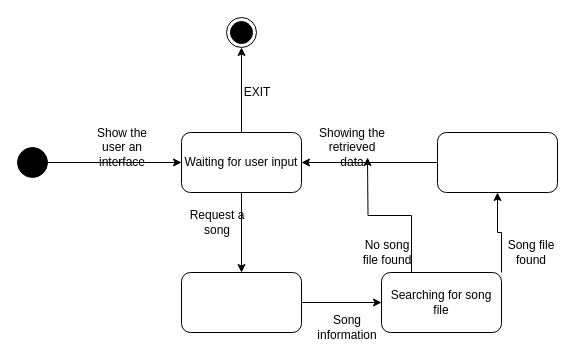
This 579x360 diagram has some shape labels left out. Each missing label, with the centre of its shape:
"Finding random song" goes at (x=241, y=302).
"Integrating found song into response to client" goes at (x=497, y=162).
